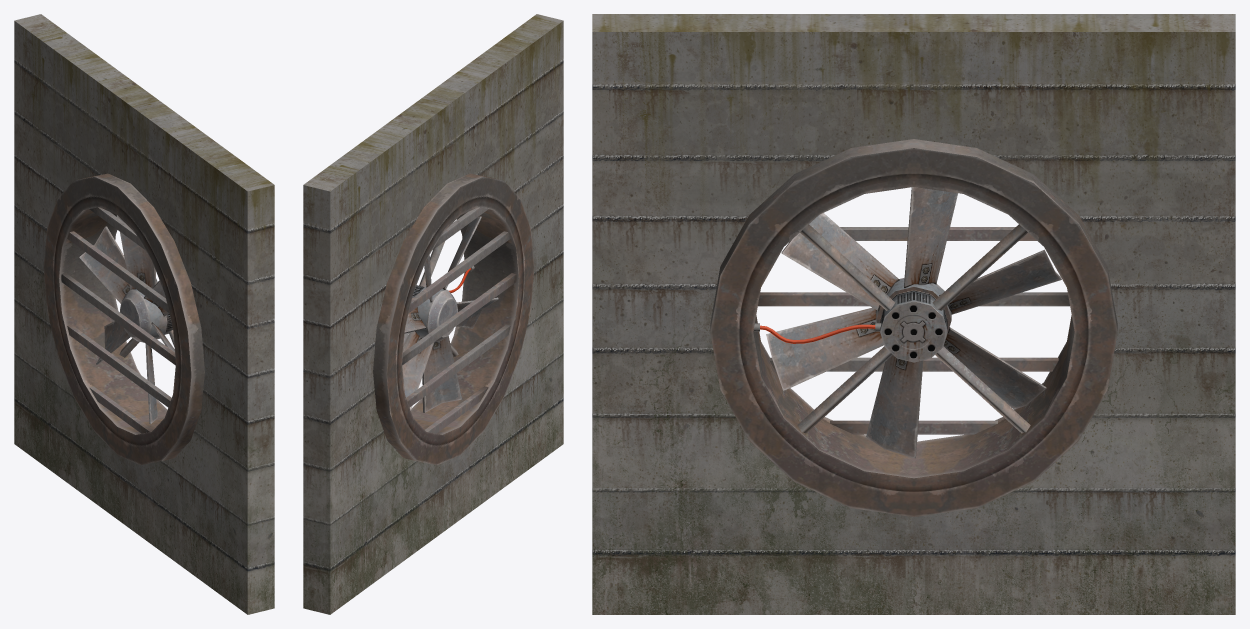
Rendered from wall01_industrialFan.fbx.
The picture shows the model from 3 angles, left to right: view 1: azimuth 30°, elevation 25°; view 2: azimuth 150°, elevation 25°; view 3: azimuth 270°, elevation 25°; orthographic projection. The views are drawn at different scales.
Parts seen in each view (by area): view 1: wall01_industrialFan, wall01_fan, wall01_fan_blades; view 2: wall01_industrialFan, wall01_fan, wall01_fan_blades; view 3: wall01_industrialFan, wall01_fan, wall01_fan_blades.
Part boxes in pixels (x1,y1,x2,y2): wall01_industrialFan: (14, 14, 274, 614); wall01_fan: (43, 173, 204, 465); wall01_fan_blades: (79, 215, 174, 424); wall01_industrialFan: (303, 14, 563, 614); wall01_fan: (373, 173, 534, 465); wall01_fan_blades: (402, 216, 498, 412); wall01_industrialFan: (592, 14, 1235, 614); wall01_fan: (710, 139, 1117, 516); wall01_fan_blades: (766, 187, 1061, 458).
Bounding box in the file's own units: 0.4 × 3 × 3.
